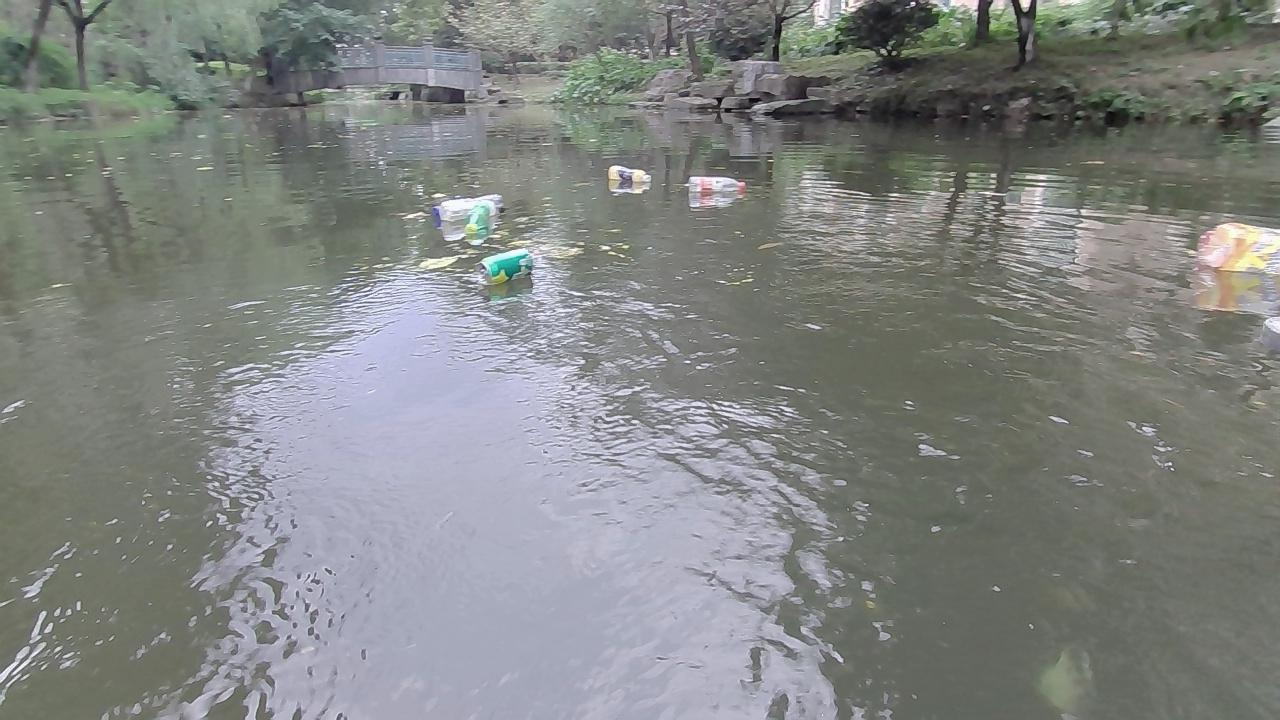Metal: (475, 248, 533, 285)
Plastic: (1195, 221, 1280, 277), (430, 193, 505, 222), (688, 175, 747, 193), (607, 164, 653, 183), (463, 203, 492, 233)
